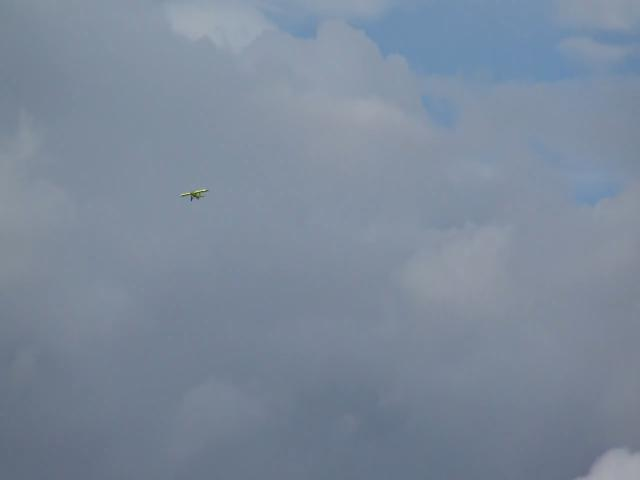plane: (180, 189, 208, 200)
